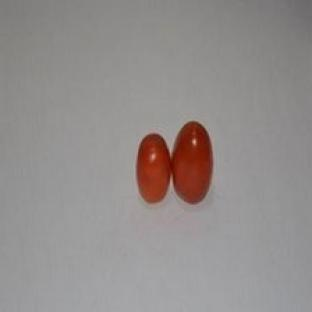Tomato: (172, 122, 213, 203), (137, 134, 171, 203)
